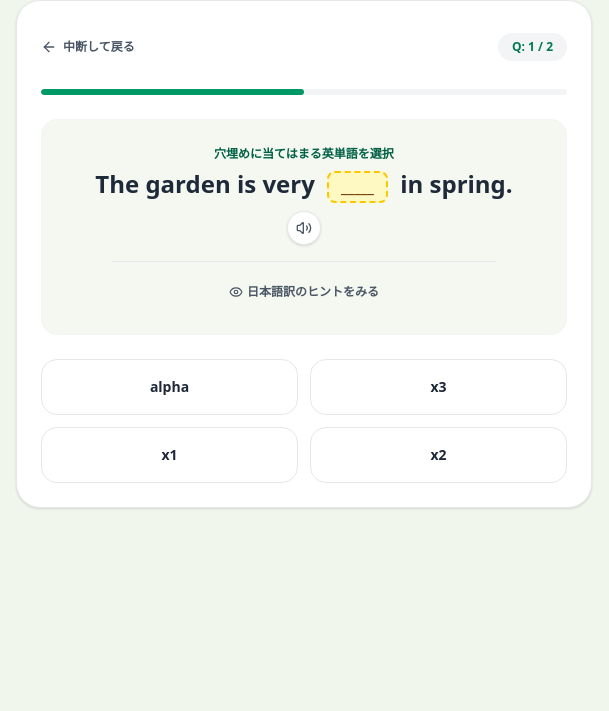
Test case: 解答 › 間違えたときは、押すまで次へ進まない
Click the button "x3" at (438, 387), box [310, 359, 567, 415]
Wait 60000 ms
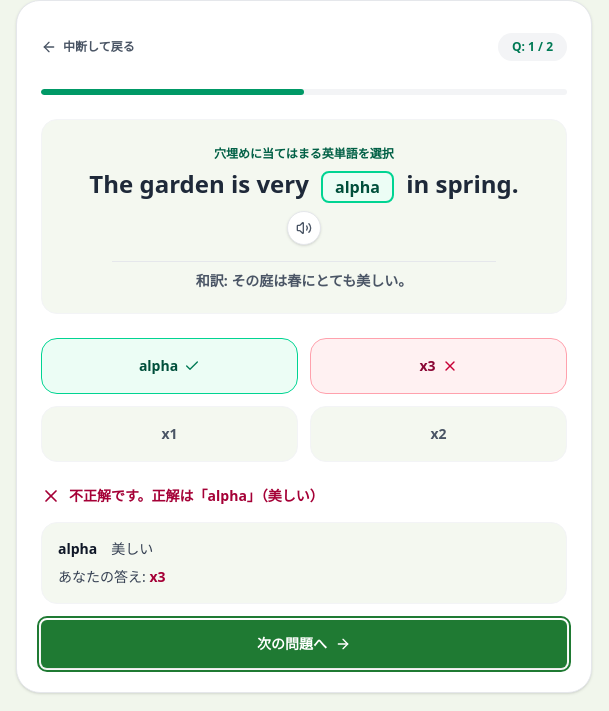
Expected: the text "Q: 1 / 2" is shown, [498, 33, 567, 61]
Click the button with id "btn_next_question" at (304, 644), box [41, 620, 567, 668]
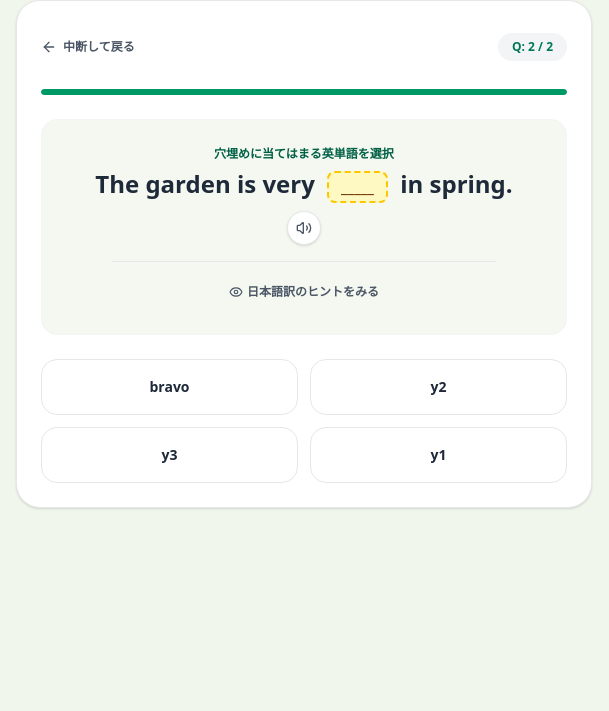
Expected: the text "Q: 2 / 2" is shown, [498, 33, 567, 61]
